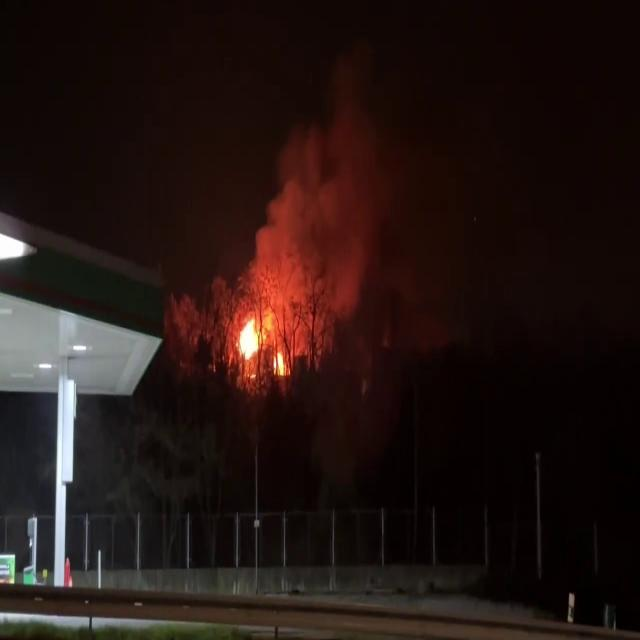Fire: (232, 294, 288, 380)
Smoke: (246, 39, 404, 324)
